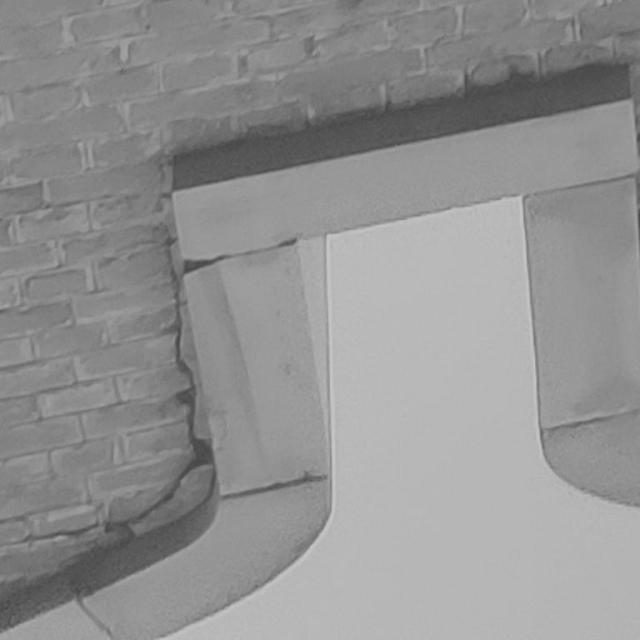crack: (23, 237, 216, 548)
